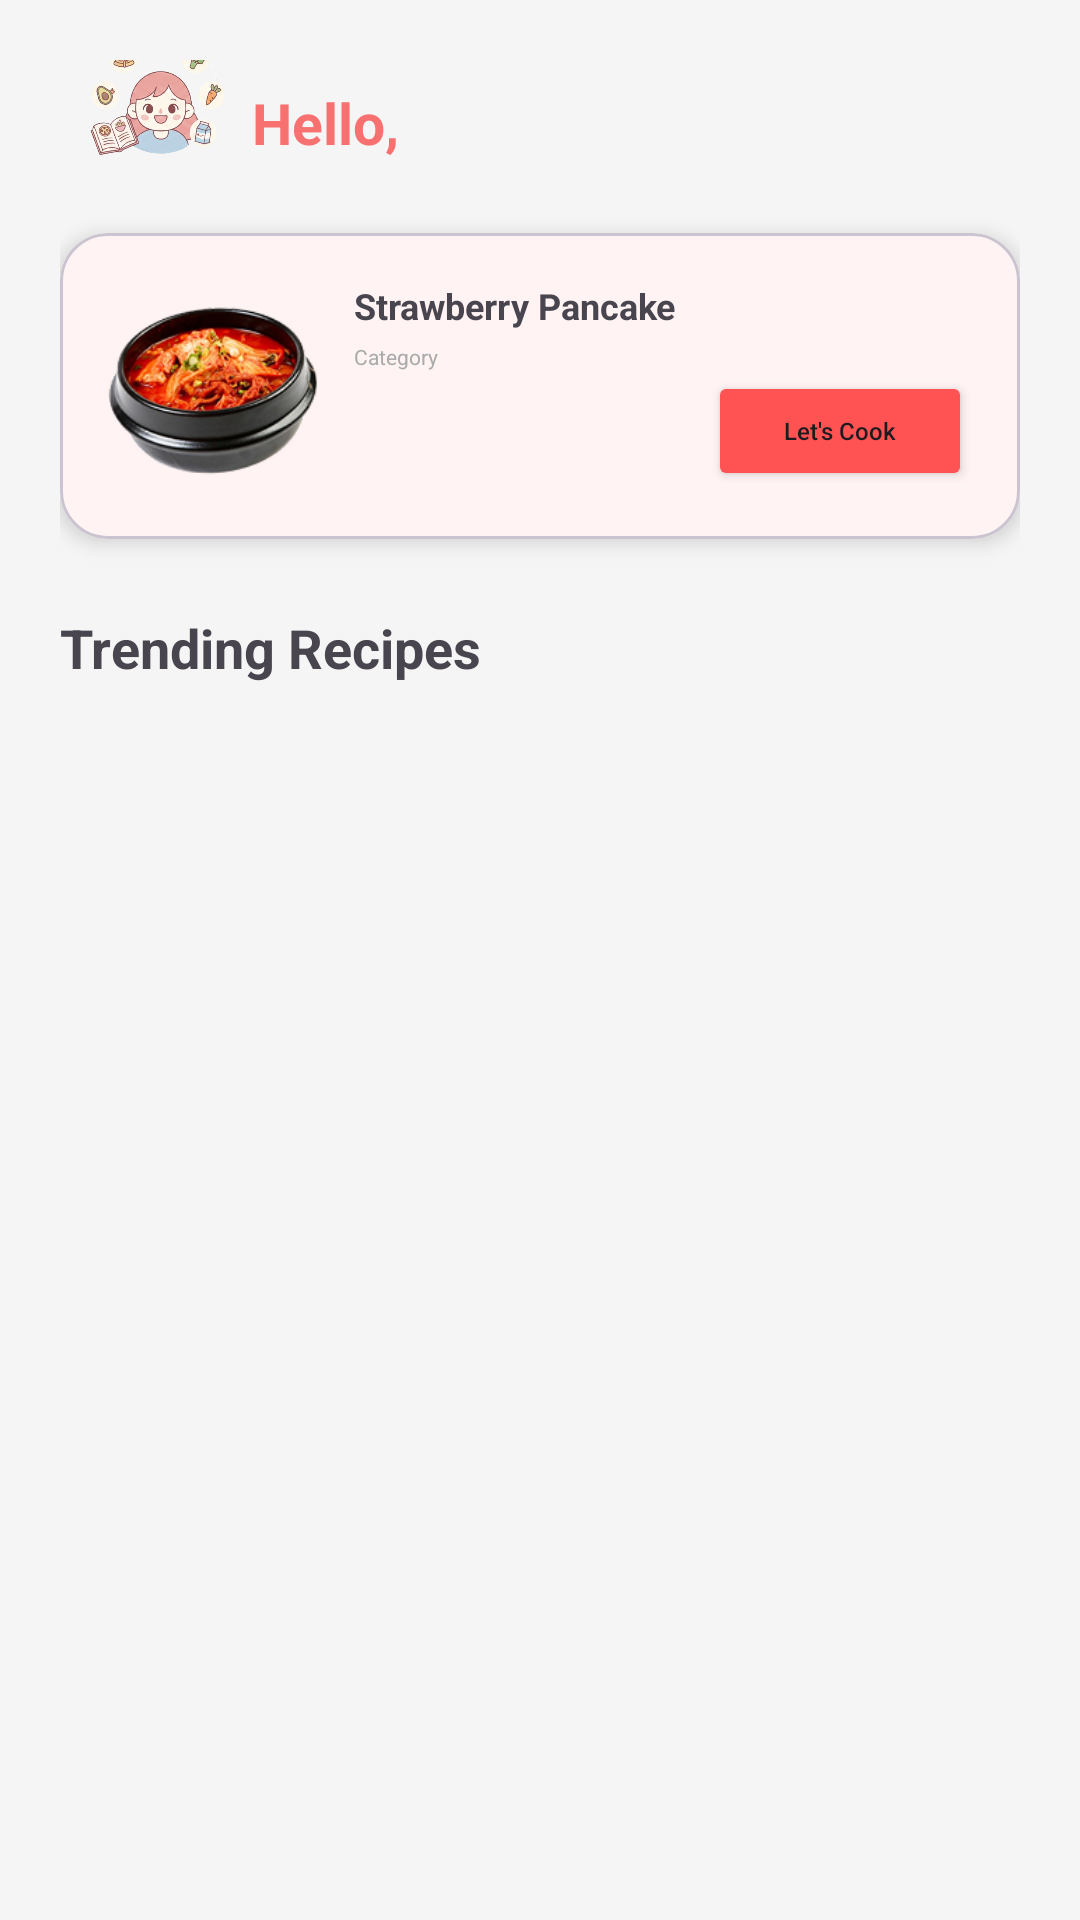

Icon bounding boxes for this 1080 × 1920 phone screenshot, format (x1, y1, x2, y2):
first onboard: (91, 60, 221, 155)
moc meal: (109, 307, 317, 474)
